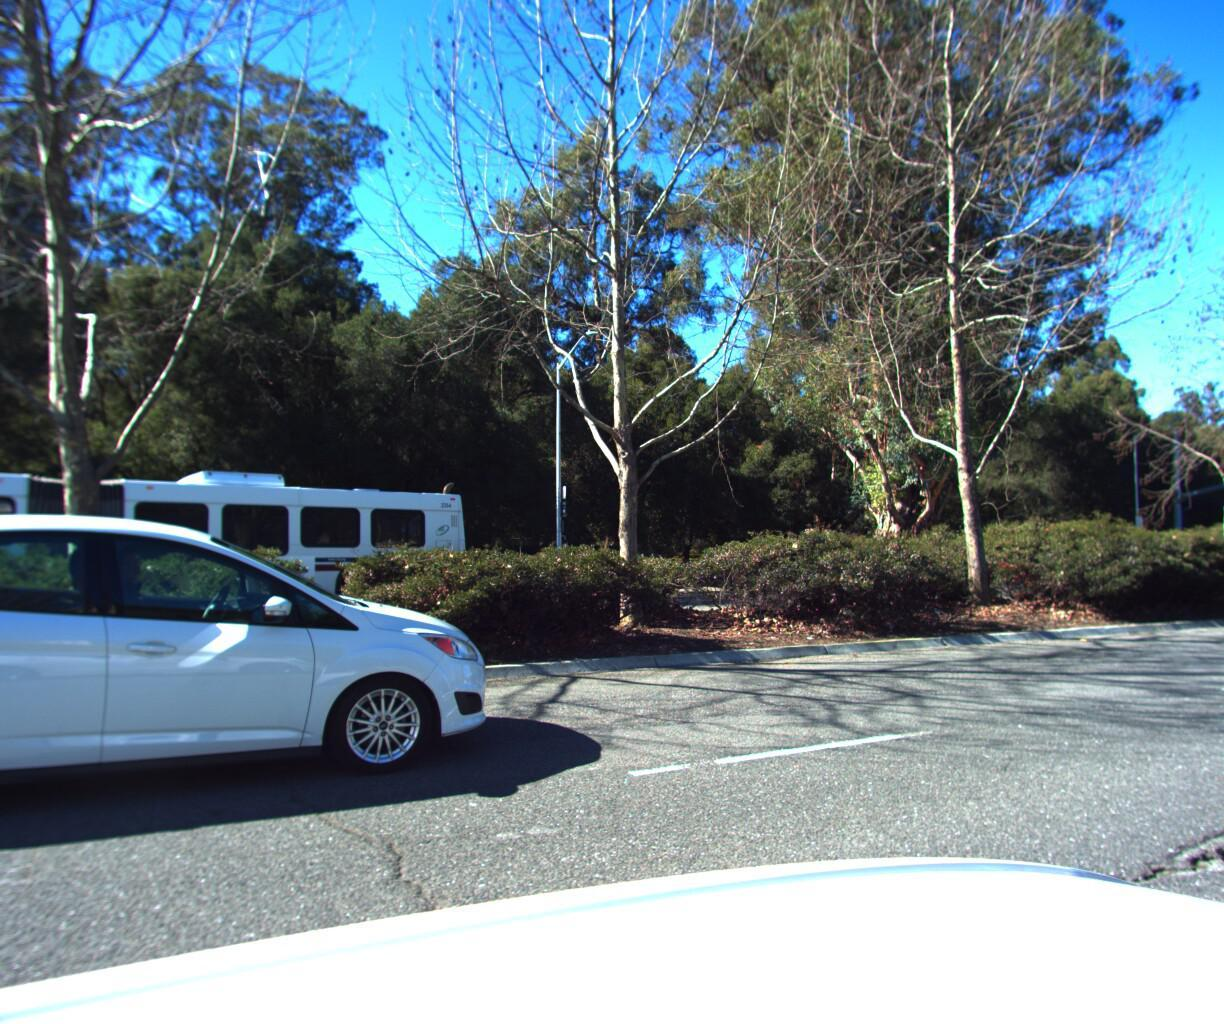bus: (0, 404, 478, 640)
car: (0, 489, 543, 879)
